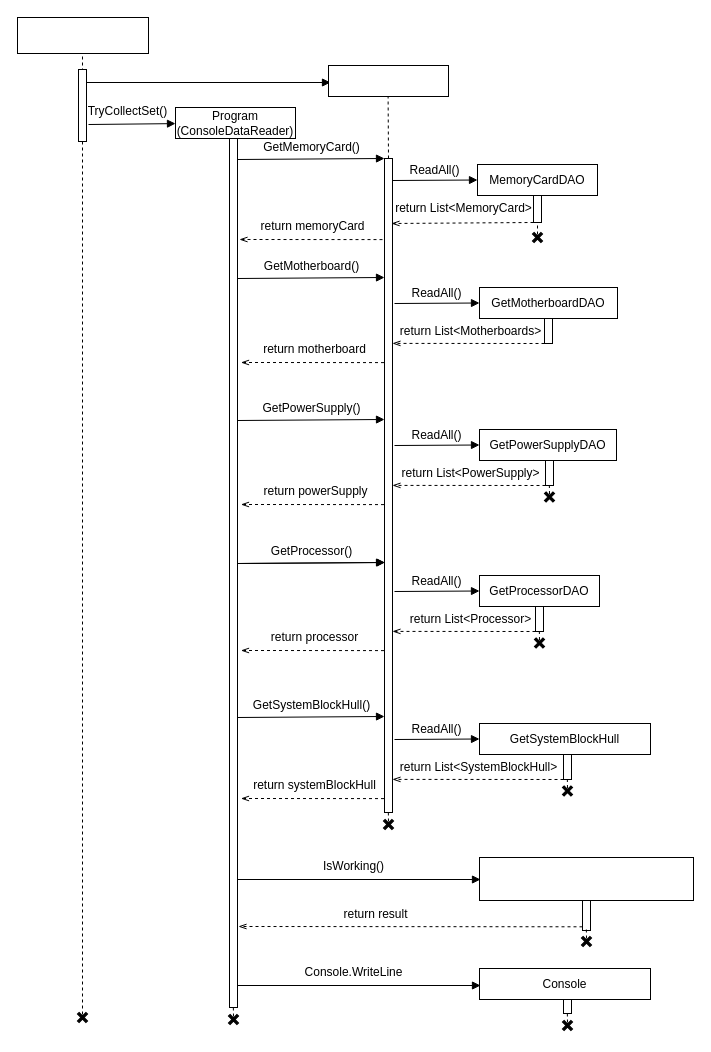
Image size: 711x1052. Some labels were removed from this diagram. The centre of each missing label's shape, as x and y in pixels:
ConsoleDataReader: point (388, 80)
Program.Main: point (82, 35)
SystemBlock(systemBlockHull, powerSupply, memoryCard, motherboard, processor): point (586, 878)
